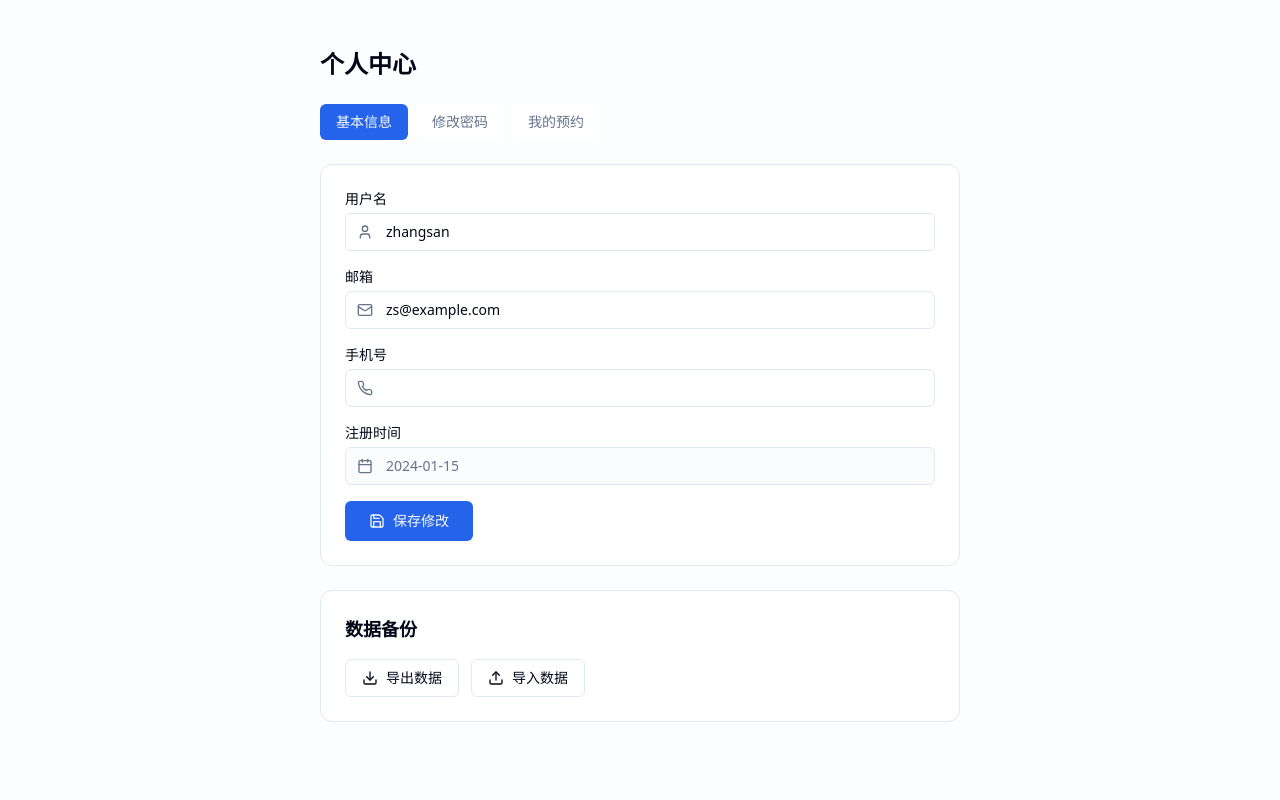
Scenario: Profile Page › shows toast on password change success
Click the button "修改密码" at (460, 122), box left=416, top=104, right=504, bottom=140
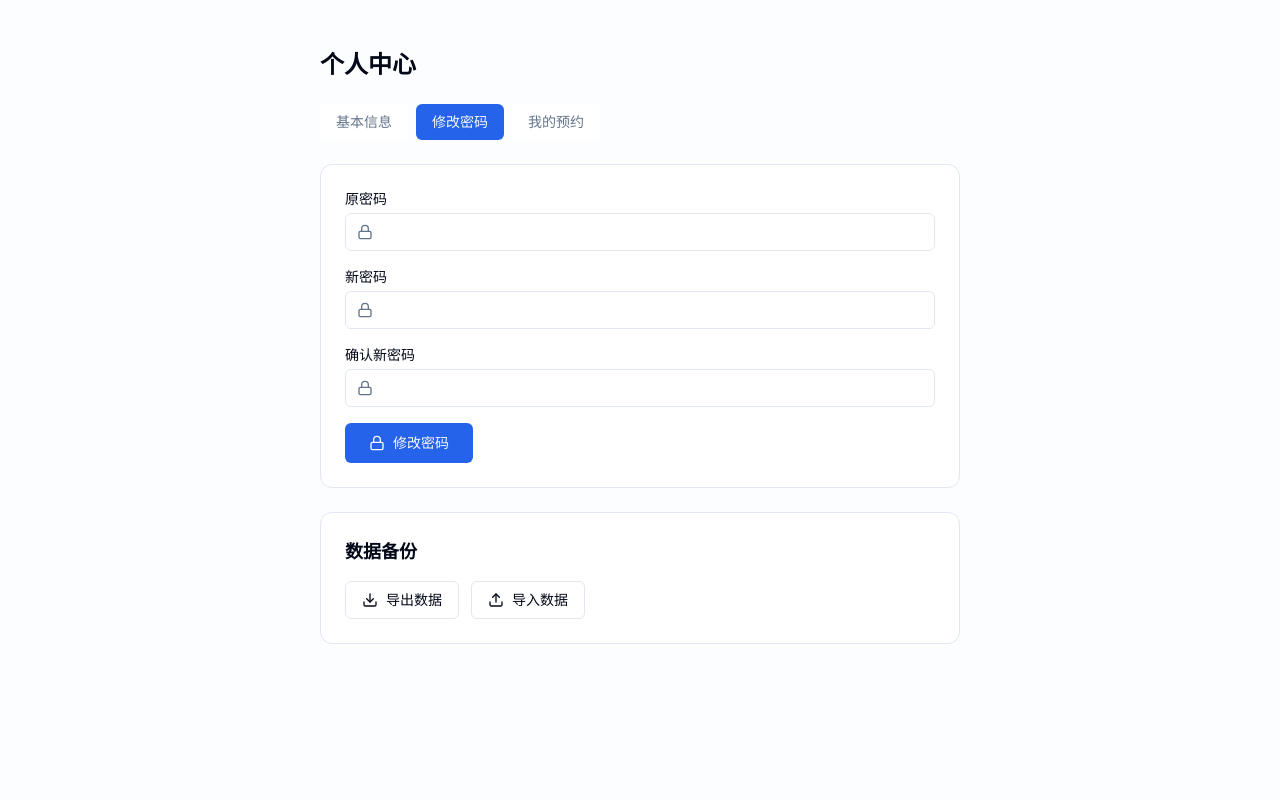
Type "123456" into the password field labelled "原密码" at (640, 232), box left=345, top=213, right=935, bottom=251
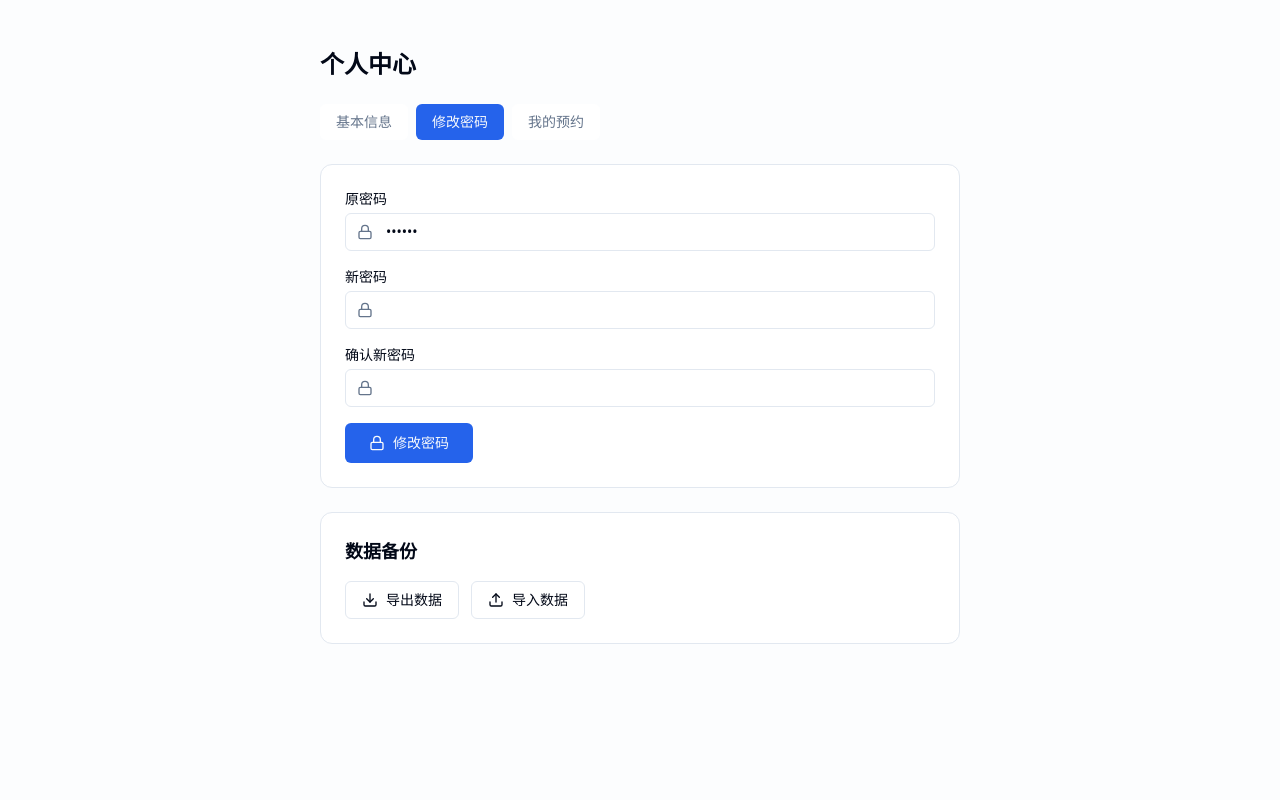
Type "newpwd" into the password field labelled "新密码" at (640, 310), box left=345, top=291, right=935, bottom=329
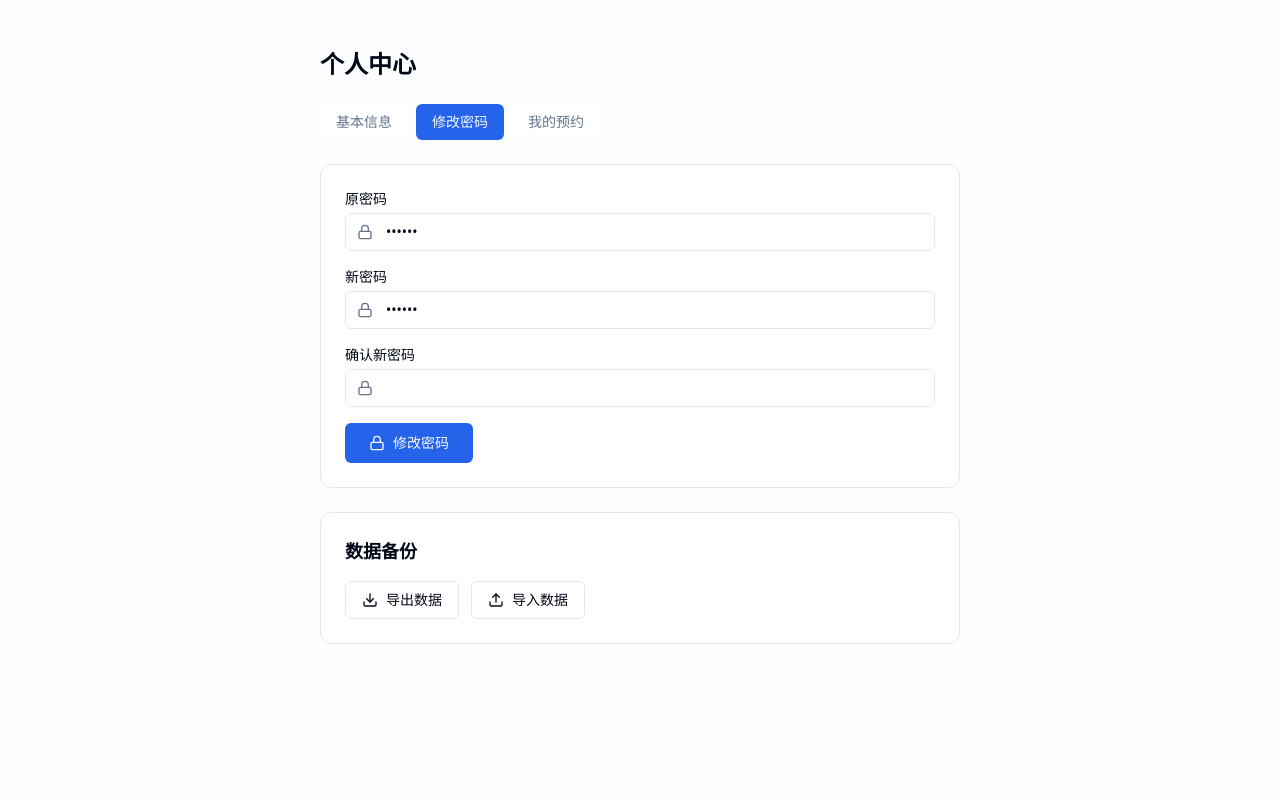
Type "newpwd" into the password field labelled "确认新密码" at (640, 388), box left=345, top=369, right=935, bottom=407
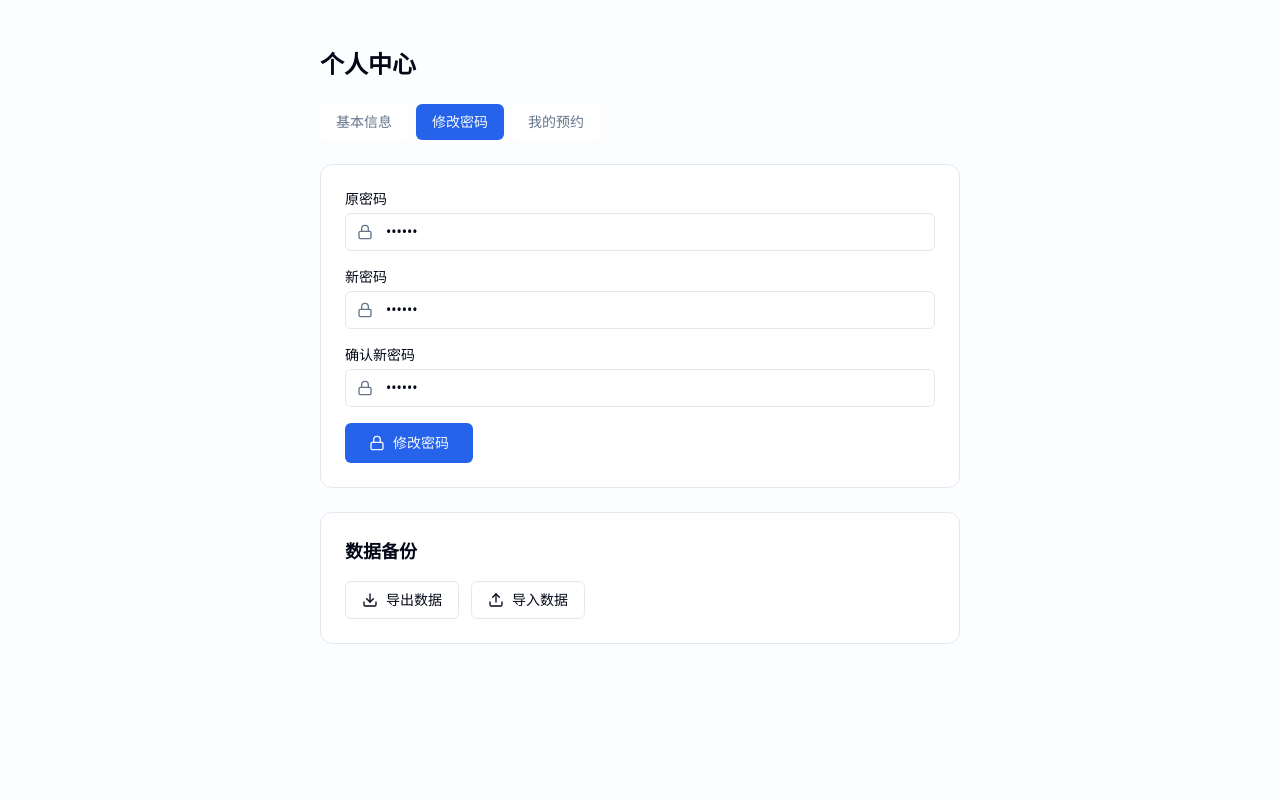
Click the button "修改密码" below "确认新密码" at (409, 443), box left=345, top=423, right=473, bottom=463
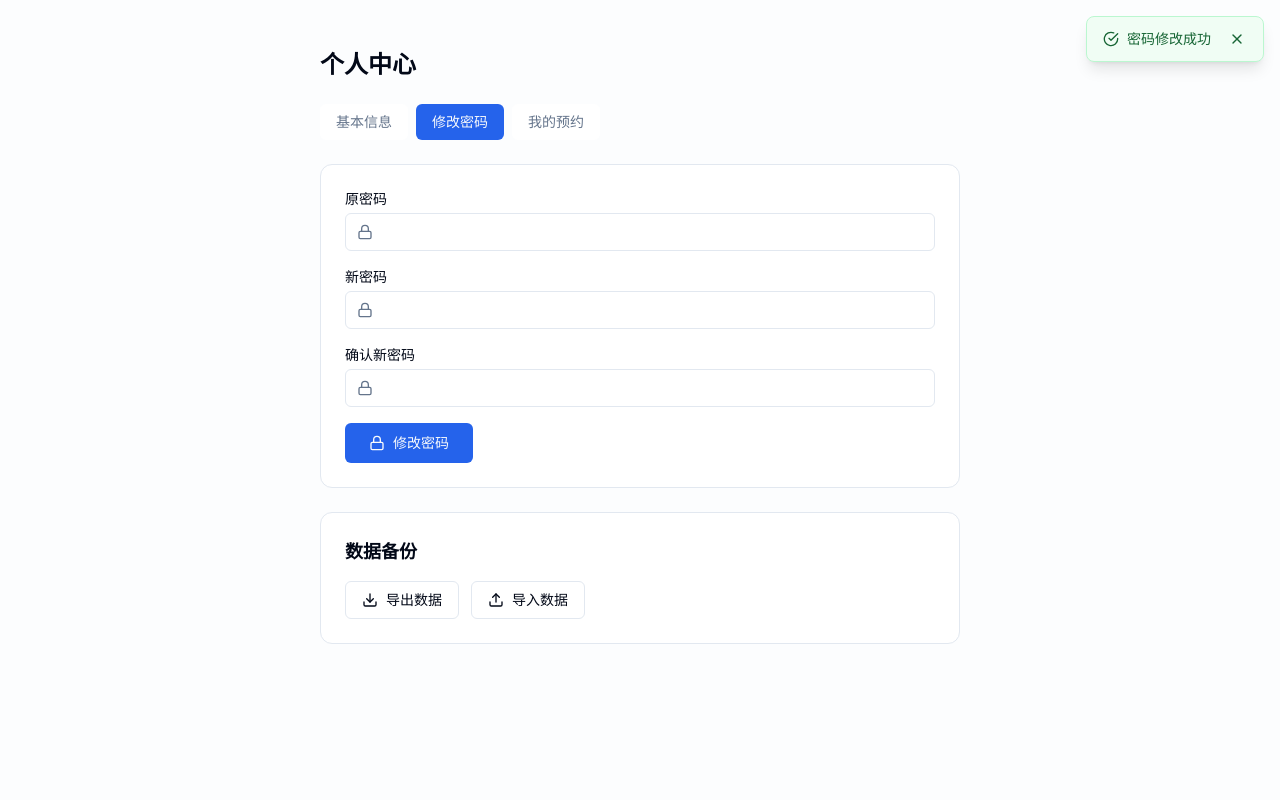
Check: the text "密码修改成功" is shown, box left=1127, top=29, right=1211, bottom=49
